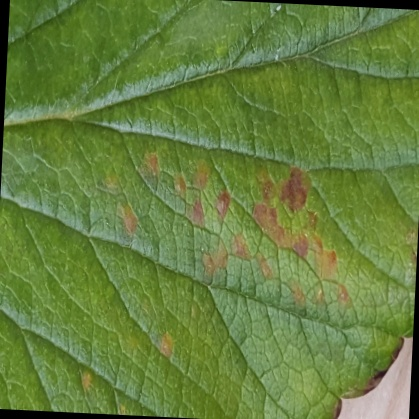Angular_LS: (80, 149, 362, 402)
